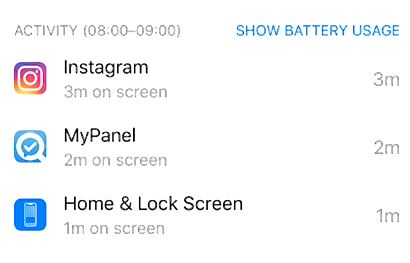activity: (12, 14, 192, 47)
app: (7, 53, 404, 107), (7, 121, 404, 175), (7, 191, 404, 245)
